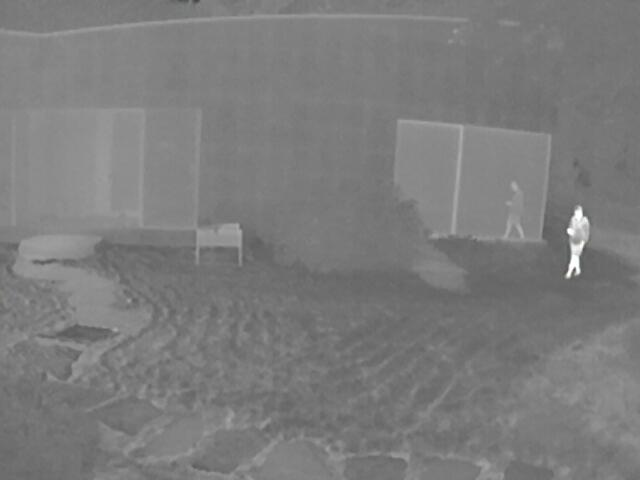person: (501, 178, 525, 244), (566, 206, 588, 278)
